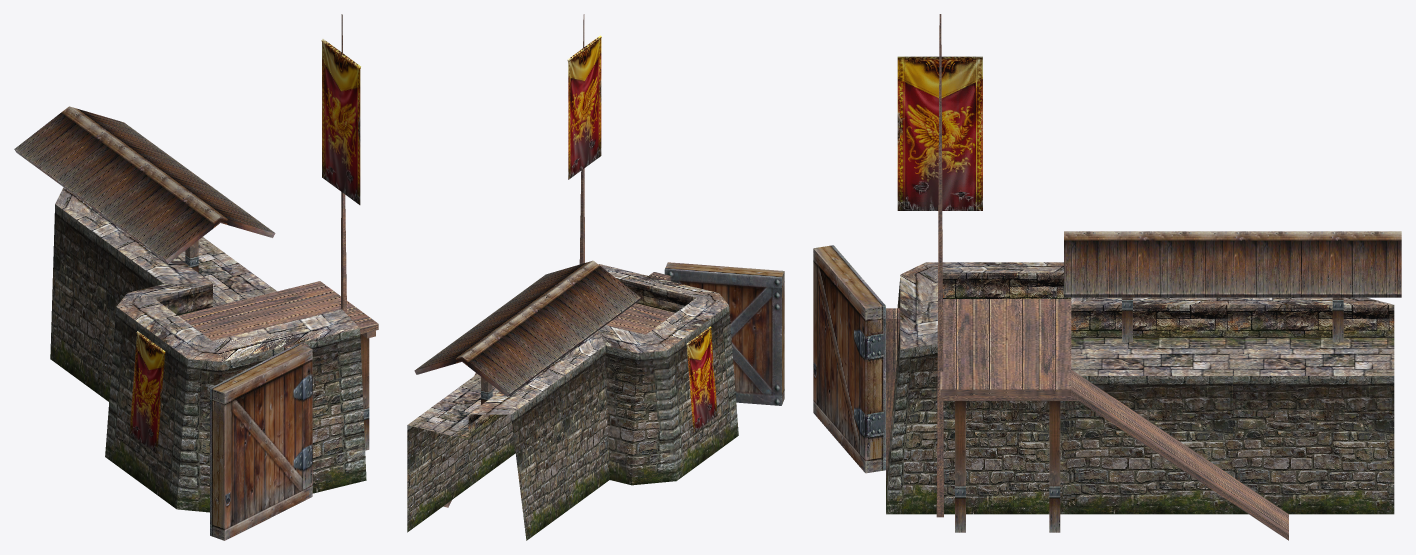
The picture shows the model from 3 angles, left to right: view 1: azimuth 30°, elevation 25°; view 2: azimuth 150°, elevation 25°; view 3: azimuth 270°, elevation 25°; orthographic projection. The views are drawn at different scales.
Visible parts, largest first — view 1: tn3_v1-col; view 2: tn3_v1-col; view 3: tn3_v1-col.
Part boxes in pixels (left/top/right/bottom): tn3_v1-col: left=14, top=14, right=378, bottom=540; tn3_v1-col: left=407, top=14, right=784, bottom=540; tn3_v1-col: left=813, top=14, right=1401, bottom=540.
Size of the model in its own units: 7.69 by 15.4 by 16.2.
10 materials, 10 textured.
